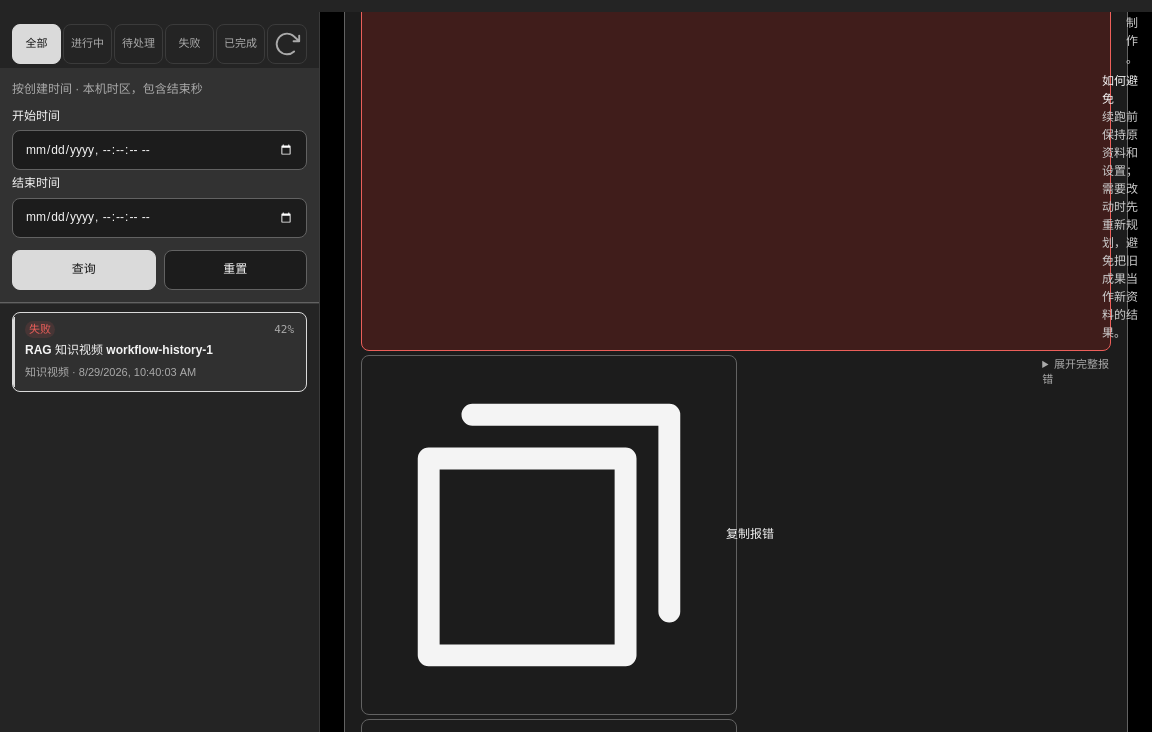
WorkflowHistoryPanel › explains persisted local failures and keeps technical details collapsed
(page scrolled)
Check: the text "如何避免" is shown, box [1102,72,1138,108]
Click the heading "展开完整报错".
click(1077, 372)  # box [1042,354,1111,389]
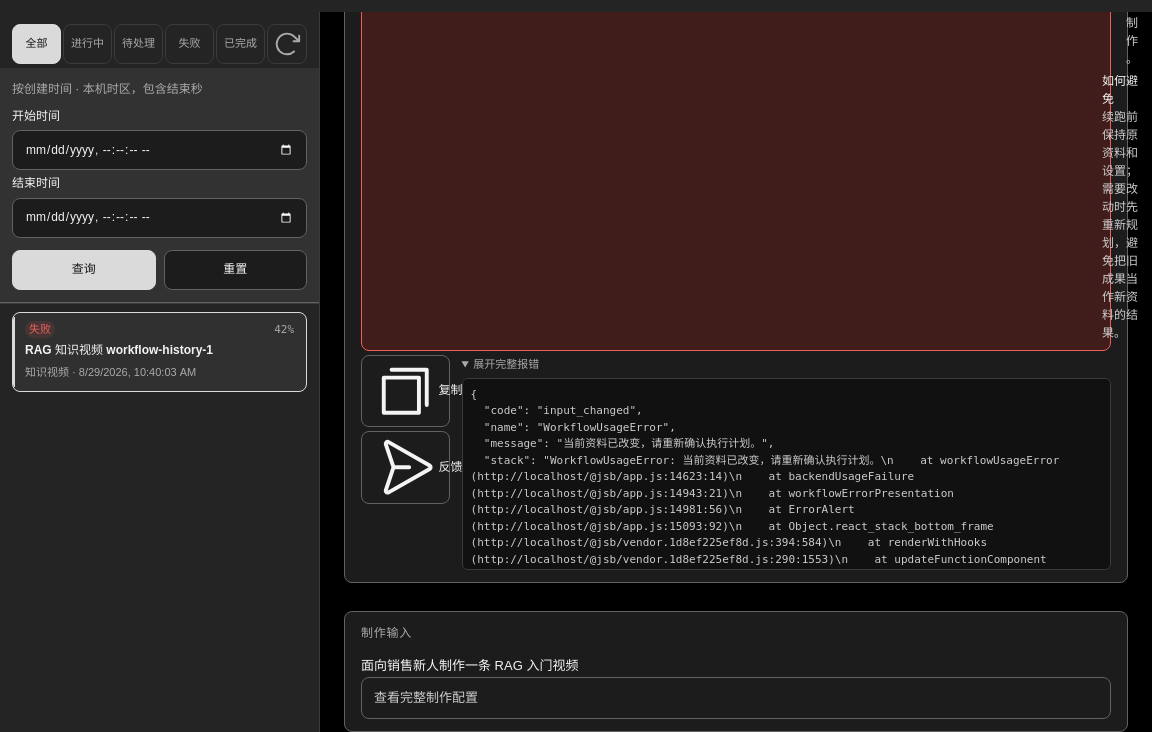
Check: the text "expectedSignature" is shown, box [470,388,1066,681]
